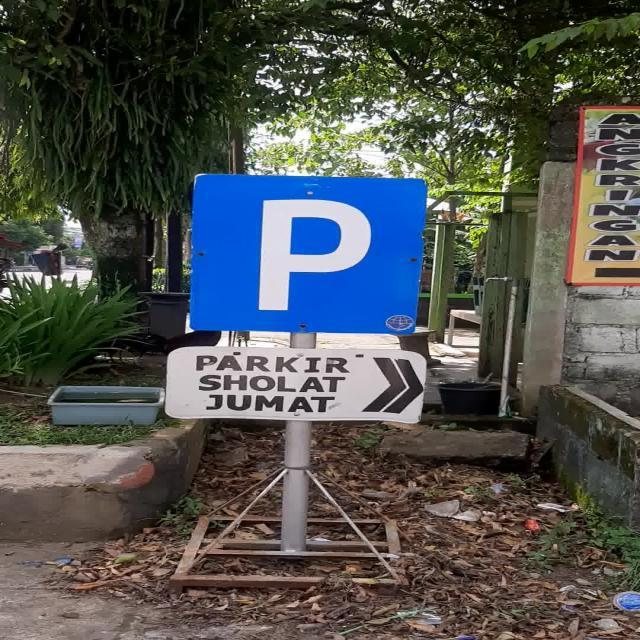Tempat Parkir: (192, 174, 426, 334)
